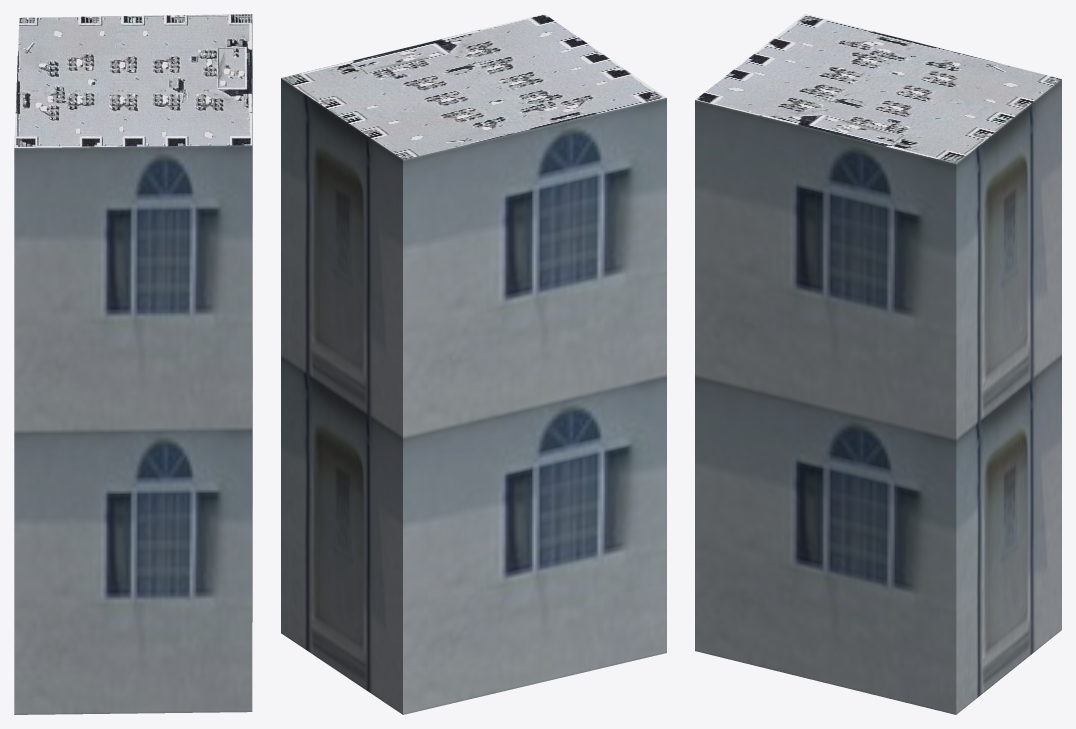
The model's file is ResTex__4428.fbx.
3 views of the same model, side by side, from view 1: azimuth 30°, elevation 25°; view 2: azimuth 150°, elevation 25°; view 3: azimuth 270°, elevation 25° (orthographic). The views are drawn at different scales.
Parts seen in each view (by area): view 1: CityEngineMaterial_17_m, CityEngineMaterial_4_m; view 2: CityEngineMaterial_17_m, CityEngineMaterial_4_m; view 3: CityEngineMaterial_17_m, CityEngineMaterial_4_m.
Part boxes in pixels (x1=…): CityEngineMaterial_17_m: x1=14, y1=56, x2=252, y2=714; CityEngineMaterial_4_m: x1=14, y1=14, x2=252, y2=147; CityEngineMaterial_17_m: x1=281, y1=78, x2=666, y2=714; CityEngineMaterial_4_m: x1=281, y1=14, x2=666, y2=159; CityEngineMaterial_17_m: x1=695, y1=79, x2=1061, y2=714; CityEngineMaterial_4_m: x1=695, y1=14, x2=1061, y2=163.
Size of the model in its own units: 3.5 by 6 by 3.62.
2 materials, 2 textured.
